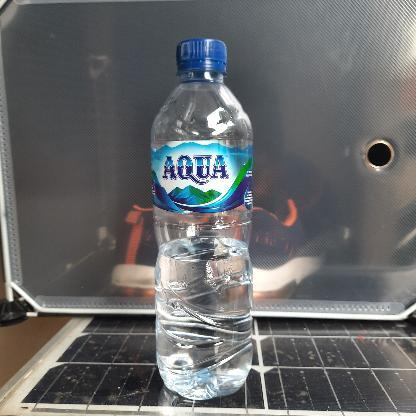plastic_bottles: (147, 36, 256, 401)
